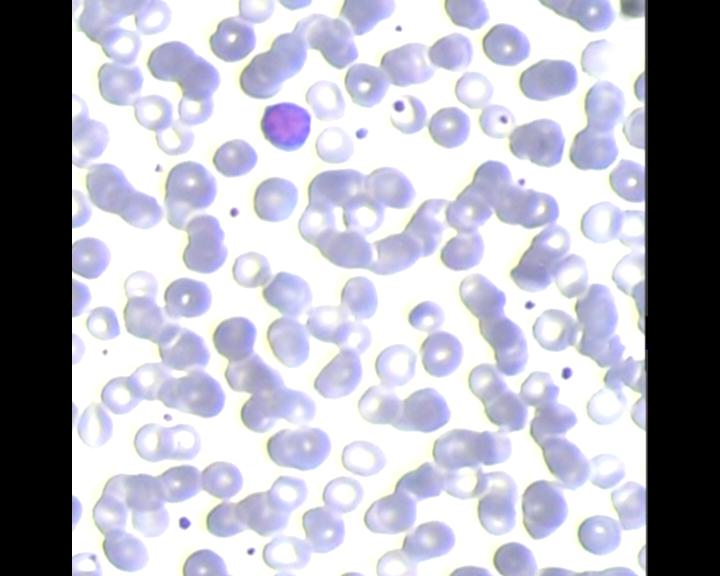lymp: (257, 99, 315, 153)
